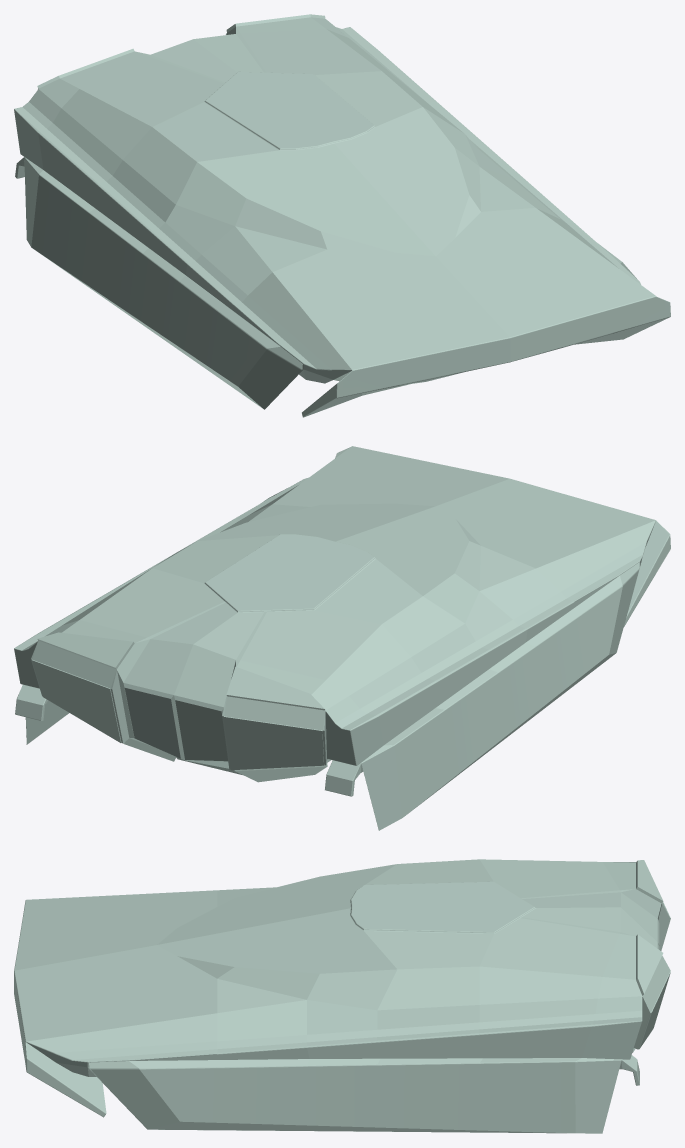
Rendered from Main.fbx.
The picture shows the model from 3 angles, top to bottom: view 1: azimuth 30°, elevation 25°; view 2: azimuth 150°, elevation 25°; view 3: azimuth 270°, elevation 25°; orthographic projection. The views are drawn at different scales.
Visible parts, largest first — view 1: TankMain; view 2: TankMain; view 3: TankMain.
Part boxes in pixels (x1,y1,x2,y2): TankMain: [14, 14, 670, 417]; TankMain: [14, 446, 670, 830]; TankMain: [14, 859, 670, 1133].
Size of the model in its own units: 531 by 207 by 851.
